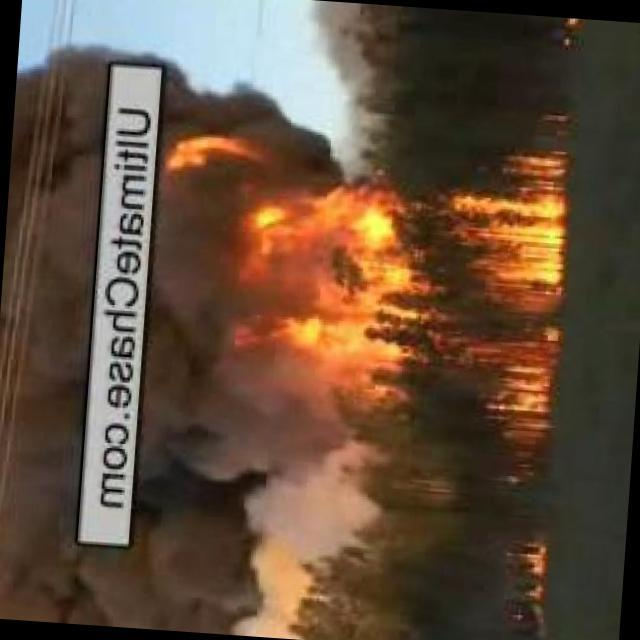Fire: (407, 115, 574, 496), (237, 194, 412, 403), (155, 134, 268, 191), (501, 535, 553, 627)
